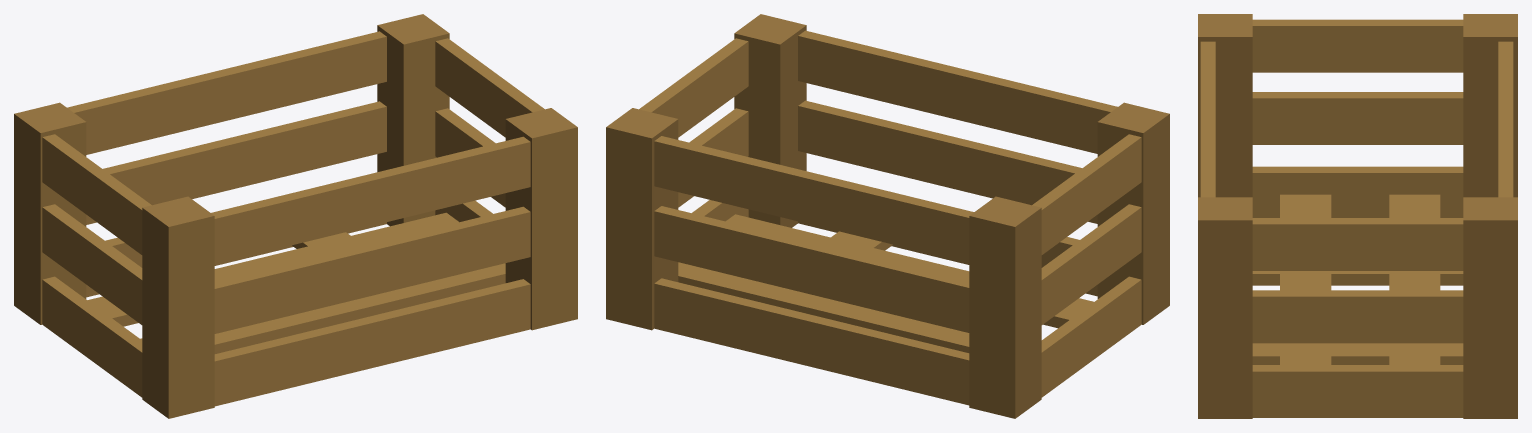
The model's file is AI_Prop_Crate_01.fbx.
3 views of the same model, side by side, from view 1: azimuth 30°, elevation 25°; view 2: azimuth 150°, elevation 25°; view 3: azimuth 270°, elevation 25° (orthographic). The views are drawn at different scales.
Visible parts, largest first — view 1: AI_Prop_Crate_01; view 2: AI_Prop_Crate_01; view 3: AI_Prop_Crate_01.
Boxes of the visible parts, x1,y1,x2,y2 form: AI_Prop_Crate_01: (14, 14, 577, 418); AI_Prop_Crate_01: (606, 14, 1169, 418); AI_Prop_Crate_01: (1198, 14, 1517, 418).
Bounding box in the file's own units: 1.03 × 0.4625 × 0.6757.
